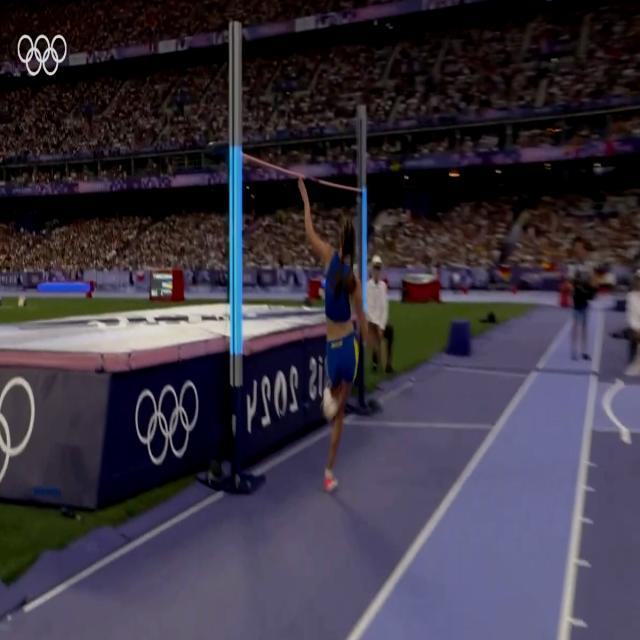jump: (297, 175, 368, 499)
